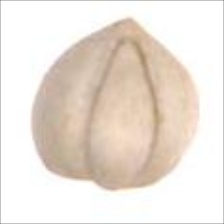L5: (83, 32, 156, 192), (81, 9, 161, 35)
L6: (28, 14, 201, 192)
